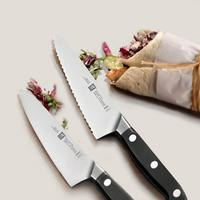knife: (49, 32, 140, 164), (15, 81, 110, 198)
